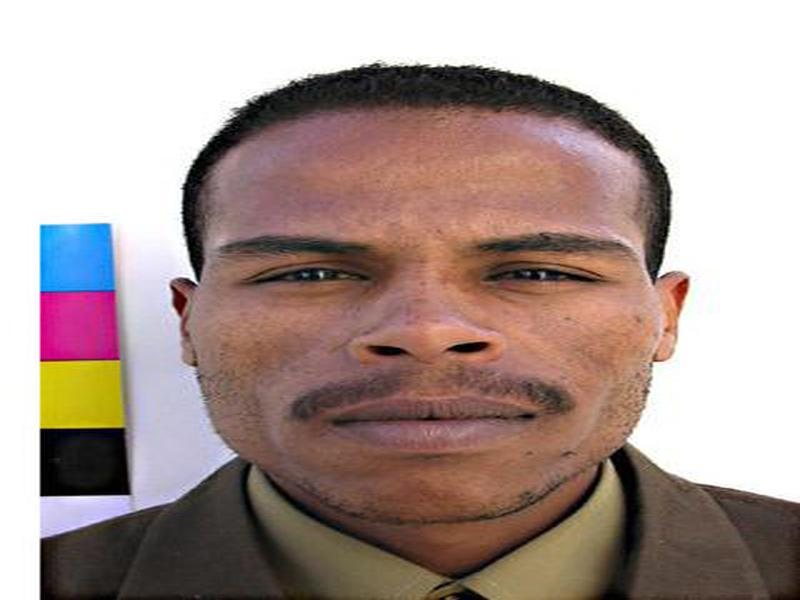without_mask: (200, 140, 640, 529)
